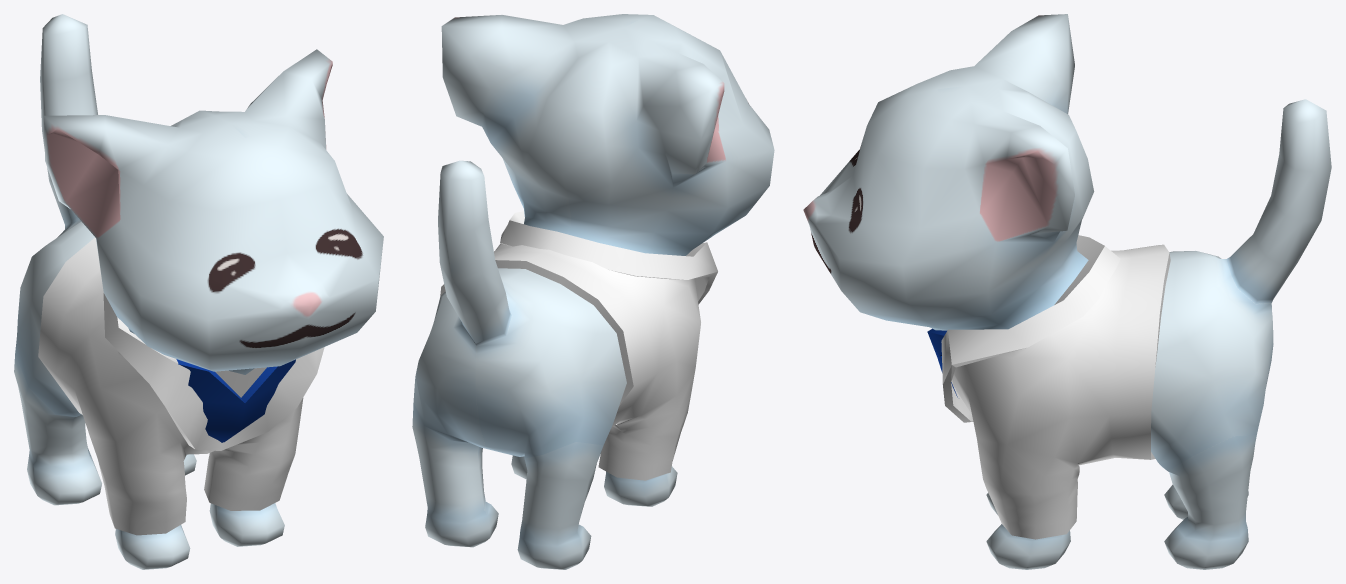
Rendered from Doctor Cat05.fbx.
The picture shows the model from 3 angles, left to right: view 1: azimuth 30°, elevation 25°; view 2: azimuth 150°, elevation 25°; view 3: azimuth 270°, elevation 25°; orthographic projection. The views are drawn at different scales.
Parts seen in each view (by area): view 1: Cat_Base004, Doctor_Cat_Scrubs; view 2: Cat_Base004, Doctor_Cat_Scrubs; view 3: Cat_Base004, Doctor_Cat_Scrubs.
Boxes of the visible parts, bbox=[...] form: Cat_Base004: bbox=[14, 14, 383, 569]; Doctor_Cat_Scrubs: bbox=[38, 237, 324, 535]; Cat_Base004: bbox=[412, 14, 774, 569]; Doctor_Cat_Scrubs: bbox=[440, 211, 717, 480]; Cat_Base004: bbox=[803, 14, 1331, 569]; Doctor_Cat_Scrubs: bbox=[927, 235, 1170, 539].
Bounding box in the file's own units: 1.75 × 2.83 × 2.68.
3 materials, 1 textured.
